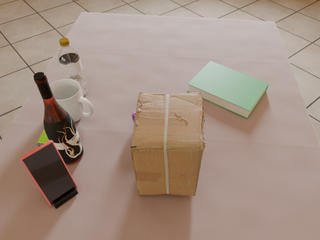book: (187, 61, 269, 119)
bottle: (34, 72, 83, 164), (58, 38, 88, 96)
box: (131, 92, 205, 196)
cup: (50, 78, 94, 123)
phone: (20, 140, 77, 206)
